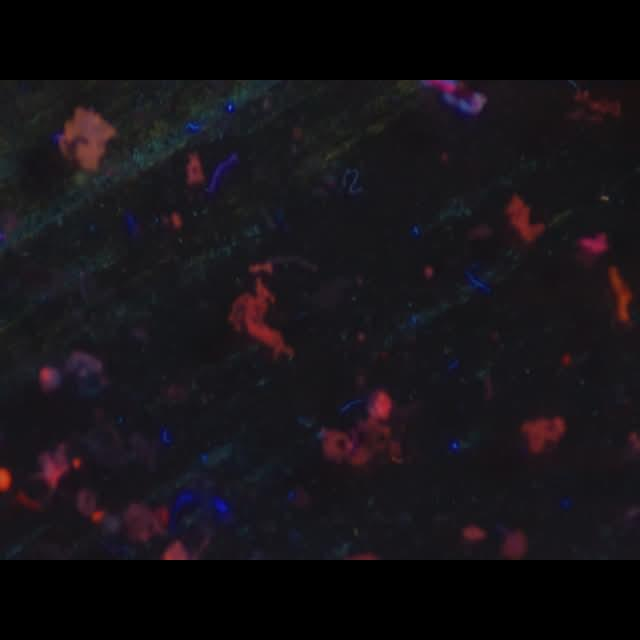Fragment: (57, 107, 116, 173), (520, 416, 566, 454)
